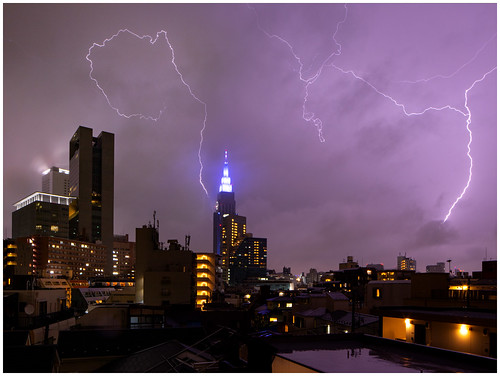building: (128, 225, 224, 322), (66, 131, 125, 249), (20, 195, 72, 276), (211, 146, 246, 266), (233, 237, 267, 279)
sky: (13, 1, 464, 227)
